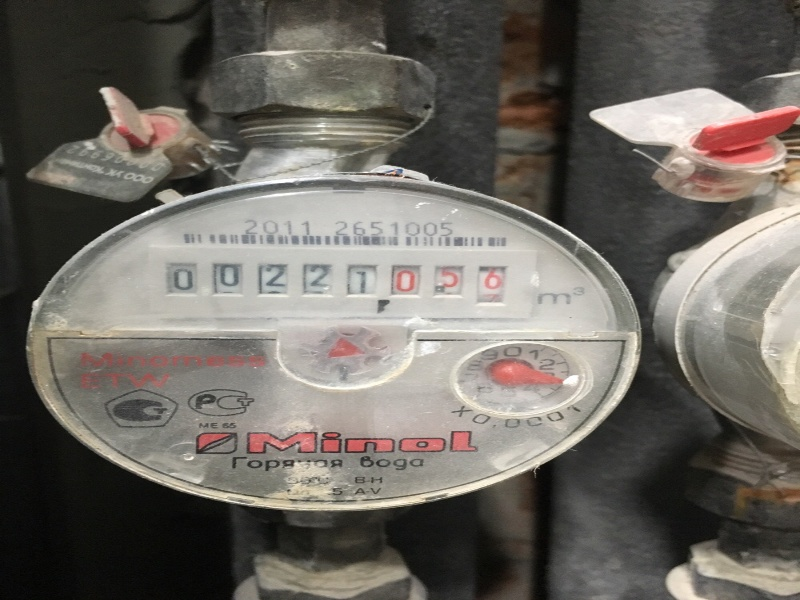meter: (155, 249, 529, 315)
